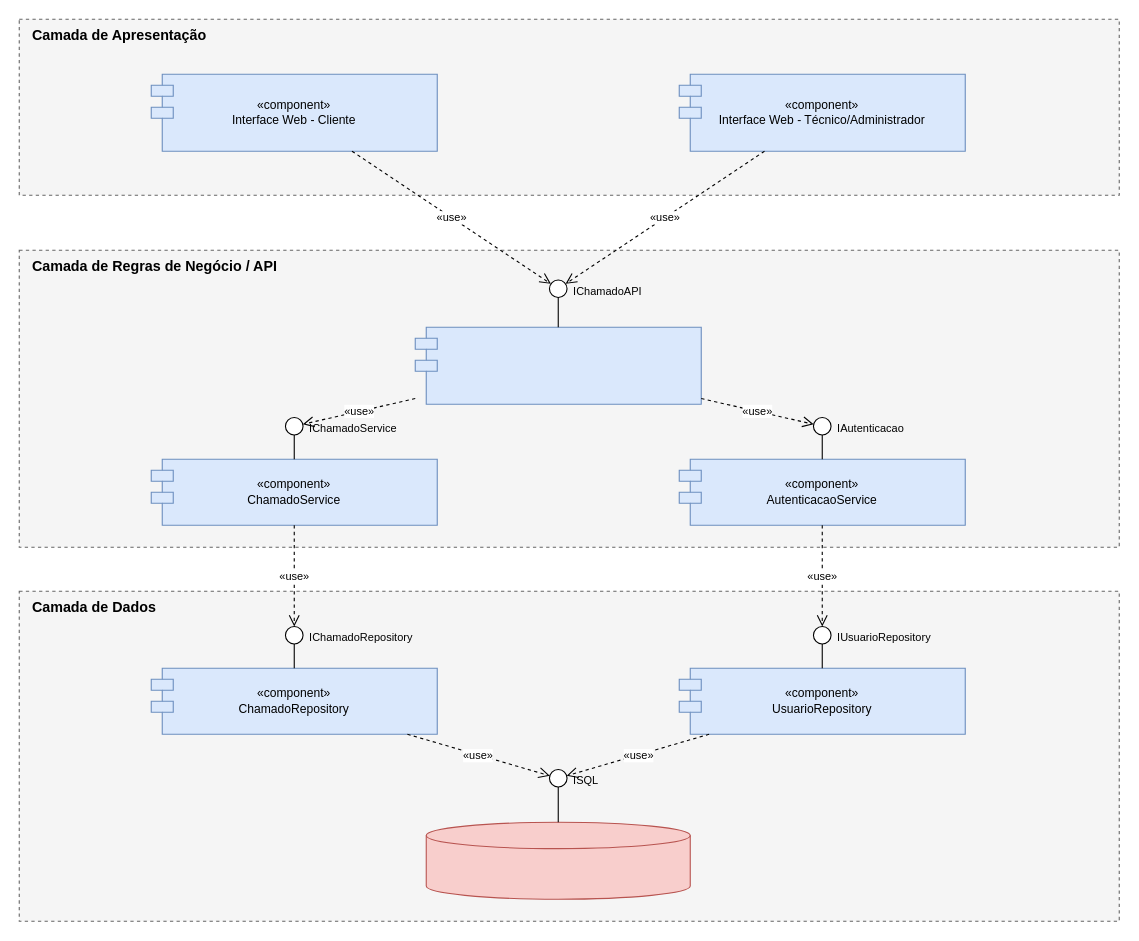
The diagram is 1139 pixels wide and 941 high, and some of its shapes have lost their labels. Here are the shapes that lost their labels. From the top down, the centre of each, then its label:
At point 557,365: "«component» API REST (Controllers)".
At point 557,860: "«database» Banco de Dados Relacional".
